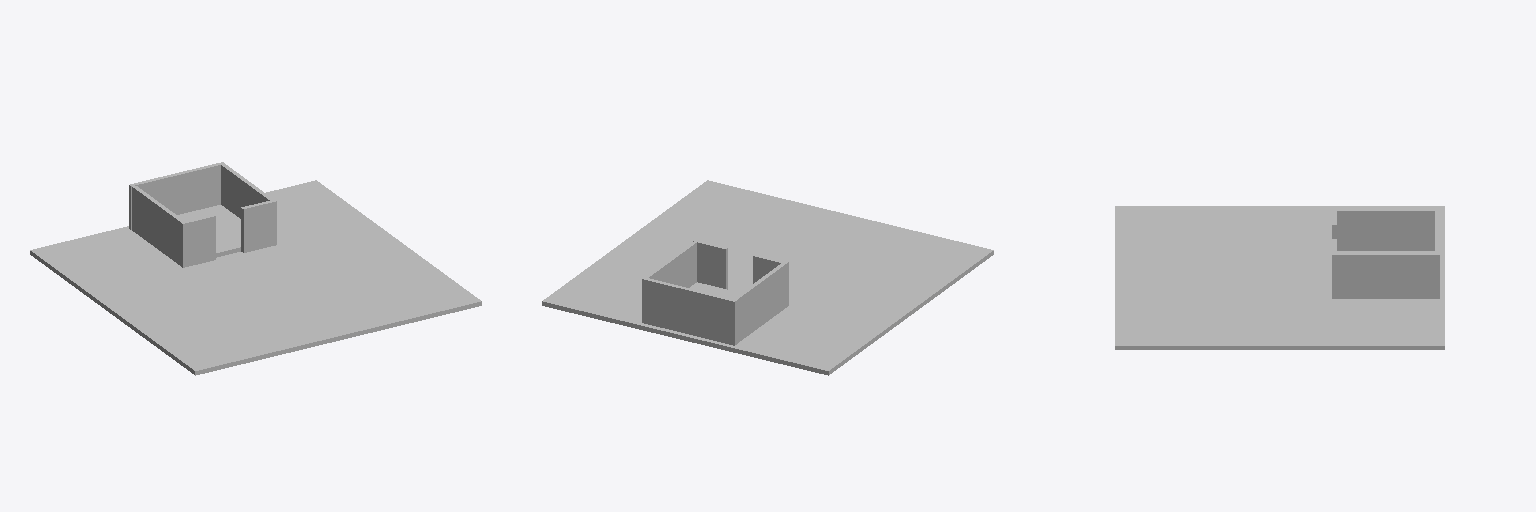
Rendered from testStructure.obj.
The picture shows the model from 3 angles: view 1: azimuth 30°, elevation 25°; view 2: azimuth 150°, elevation 25°; view 3: azimuth 270°, elevation 25°; orthographic projection.
Visible parts, largest first — view 1: floor, room; view 2: floor, room; view 3: floor, room.
Part boxes in pixels (bbox=[...]): floor: bbox=[30, 180, 481, 375]; room: bbox=[129, 162, 276, 267]; floor: bbox=[542, 180, 993, 375]; room: bbox=[642, 240, 788, 345]; floor: bbox=[1115, 206, 1444, 349]; room: bbox=[1332, 209, 1439, 298].
Bounding box in the file's own units: 67.59 × 10.9 × 67.59.